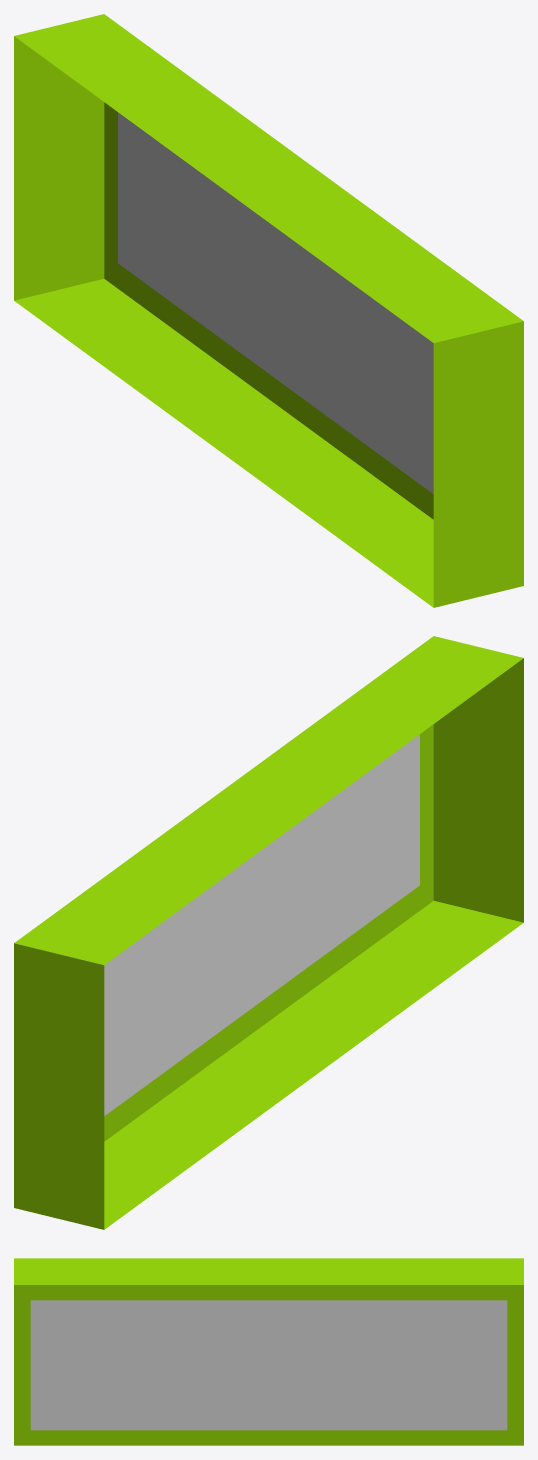
The model's file is Asset_Garage1_1.fbx.
3 renders of one model, top to bottom at view 1: azimuth 30°, elevation 25°; view 2: azimuth 150°, elevation 25°; view 3: azimuth 270°, elevation 25°, orthographic. The views are drawn at different scales.
Visible parts, largest first — view 1: Asset_Garage1_1; view 2: Asset_Garage1_1; view 3: Asset_Garage1_1.
Part boxes in pixels (box(x1,y1,x2,y2)): Asset_Garage1_1: box(14, 14, 523, 607); Asset_Garage1_1: box(14, 636, 523, 1229); Asset_Garage1_1: box(14, 1258, 523, 1445).
Size of the model in its own units: 5 by 14 by 40.25.
